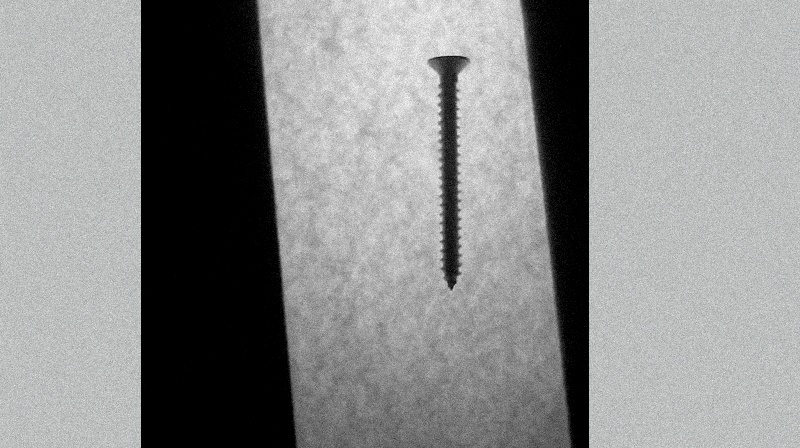S002: (423, 50, 474, 292)
